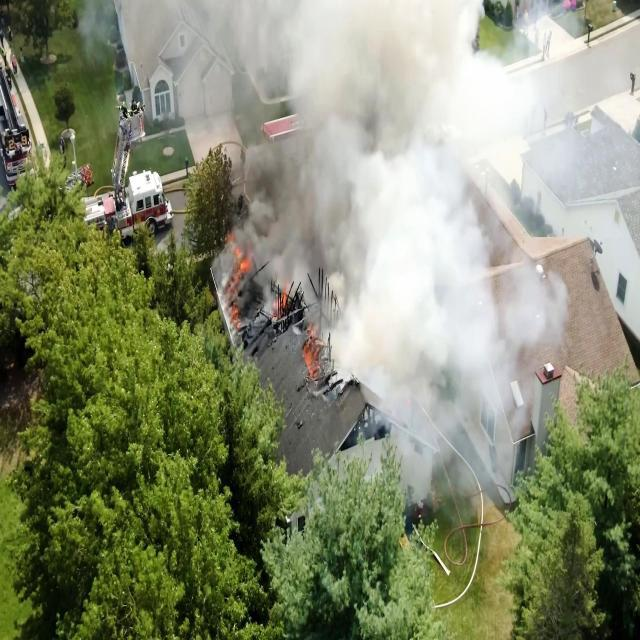Smoke: (324, 86, 428, 354), (267, 147, 388, 270)
